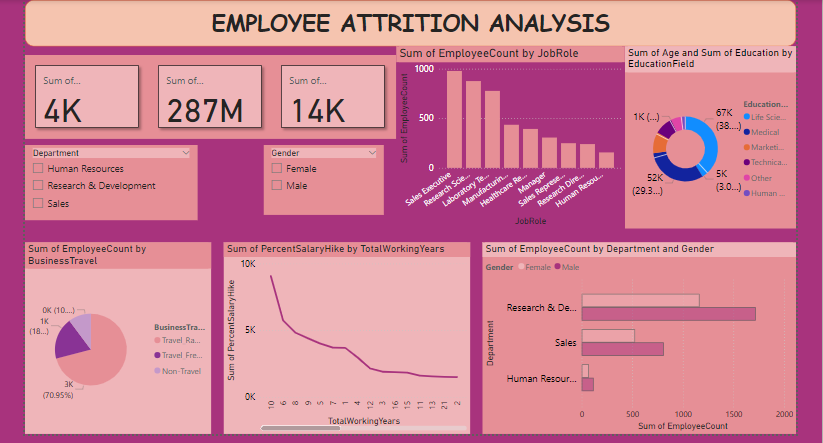

The page's visual inventory and layout, read from the dashboard file:
{"tool":"powerbi","page":{"name":"Page 1","canvas":[1280,720],"ordinal":0},"visuals":[{"type":"clusteredBarChart","fields":{"Category":["Attrition data.Department"],"Y":["Sum(Attrition data.EmployeeCount)"],"Series":["Attrition data.Gender"]},"box":[759,402.3,520.5,317.3],"z":0},{"type":"textbox","box":[0,0,1279.5,76.7],"z":1000},{"type":"cardVisual","fields":{"Data":["Sum(Attrition data.EmployeeCount)","Sum(Attrition data.MonthlyIncome)","Sum(Attrition data.PerformanceRating)"]},"box":[0,91.2,615.9,138.9],"z":2000},{"type":"slicer","fields":{"Values":["Attrition data.Department"]},"box":[0,240.6,286.2,124.4],"z":3000},{"type":"slicer","fields":{"Values":["Attrition data.Gender"]},"box":[396.1,240.6,199.1,116.1],"z":4000},{"type":"columnChart","fields":{"Category":["Attrition data.JobRole"],"Y":["Sum(Attrition data.EmployeeCount)"]},"box":[615.9,76.7,379.5,302.8],"z":5000},{"type":"lineChart","fields":{"Category":["Attrition data.TotalWorkingYears"],"Y":["Sum(Attrition data.PercentSalaryHike)"]},"box":[329.7,402.3,408.5,317.3],"z":6000},{"type":"pieChart","fields":{"Y":["Sum(Attrition data.EmployeeCount)"],"Category":["Attrition data.BusinessTravel"]},"box":[0,402.3,309,317.3],"z":7000},{"type":"donutChart","fields":{"Y":["Sum(Attrition data.Age)","Sum(Attrition data.Education)"],"Category":["Attrition data.EducationField"]},"box":[995.4,76.7,284.1,302.8],"z":8000}]}

Visuals, with their boxes in screenshot pixels (x1, y1, x2, y2):
clusteredBarChart - Attrition data.Department x Sum(Attrition data.EmployeeCount): 481/242/797/435
textbox: 19/0/797/44
cardVisual - Sum(Attrition data.EmployeeCount) x Sum(Attrition data.MonthlyIncome): 19/53/394/138
slicer - Attrition data.Department: 19/144/193/220
slicer - Attrition data.Gender: 260/144/381/215
columnChart - Attrition data.JobRole x Sum(Attrition data.EmployeeCount): 394/44/624/228
lineChart - Attrition data.TotalWorkingYears x Sum(Attrition data.PercentSalaryHike): 220/242/468/435
pieChart - Sum(Attrition data.EmployeeCount) x Attrition data.BusinessTravel: 19/242/207/435
donutChart - Sum(Attrition data.Age) x Sum(Attrition data.Education): 624/44/797/228
